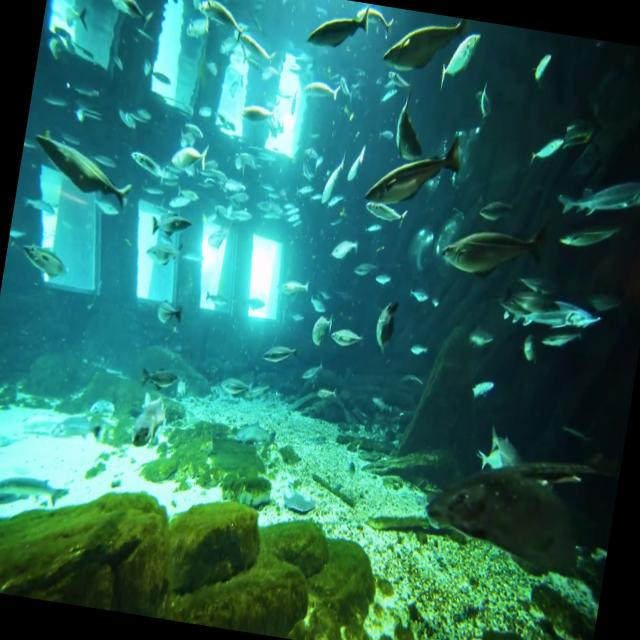fish: (422, 462, 612, 593), (361, 125, 470, 222), (26, 132, 146, 211), (438, 216, 550, 286), (381, 7, 474, 81), (556, 162, 640, 230), (309, 0, 373, 53), (193, 0, 254, 44)
